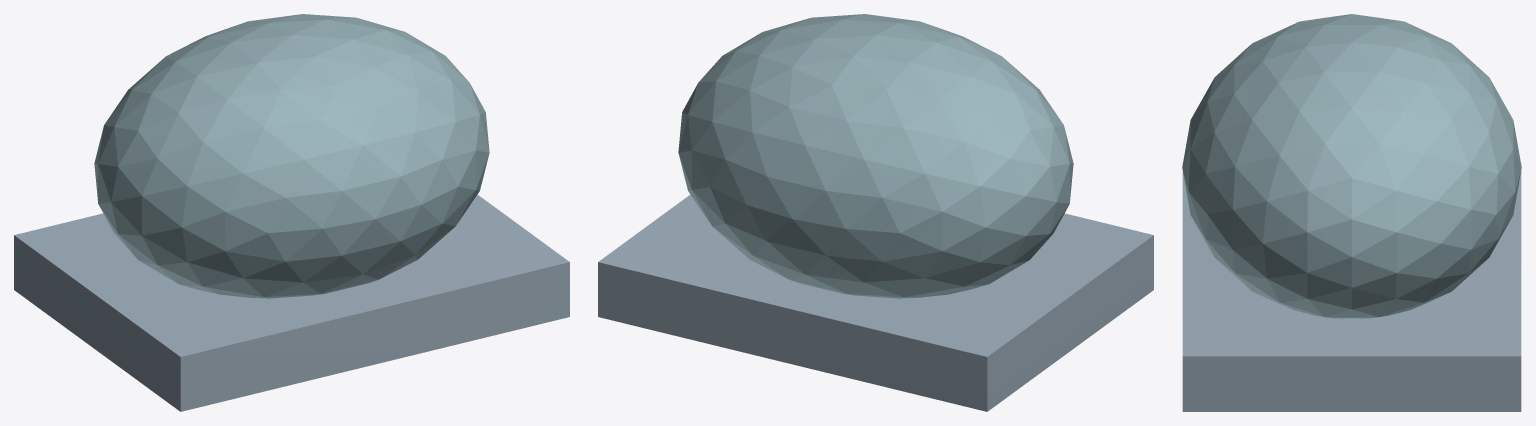
Rendered from stadium-05.glb.
3 renders of one model, left to right at view 1: azimuth 30°, elevation 25°; view 2: azimuth 150°, elevation 25°; view 3: azimuth 270°, elevation 25°, orthographic.
Parts seen in each view (by area): view 1: world; view 2: world; view 3: world.
Part boxes in pixels (x1=…): world: x1=14, y1=14, x2=569, y2=411; world: x1=598, y1=14, x2=1153, y2=411; world: x1=1182, y1=14, x2=1521, y2=411.
Bounding box in the file's own units: 1.48 × 0.9779 × 1.1.
